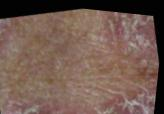plaque psoriasis: (0, 60, 159, 114), (94, 8, 164, 114)
